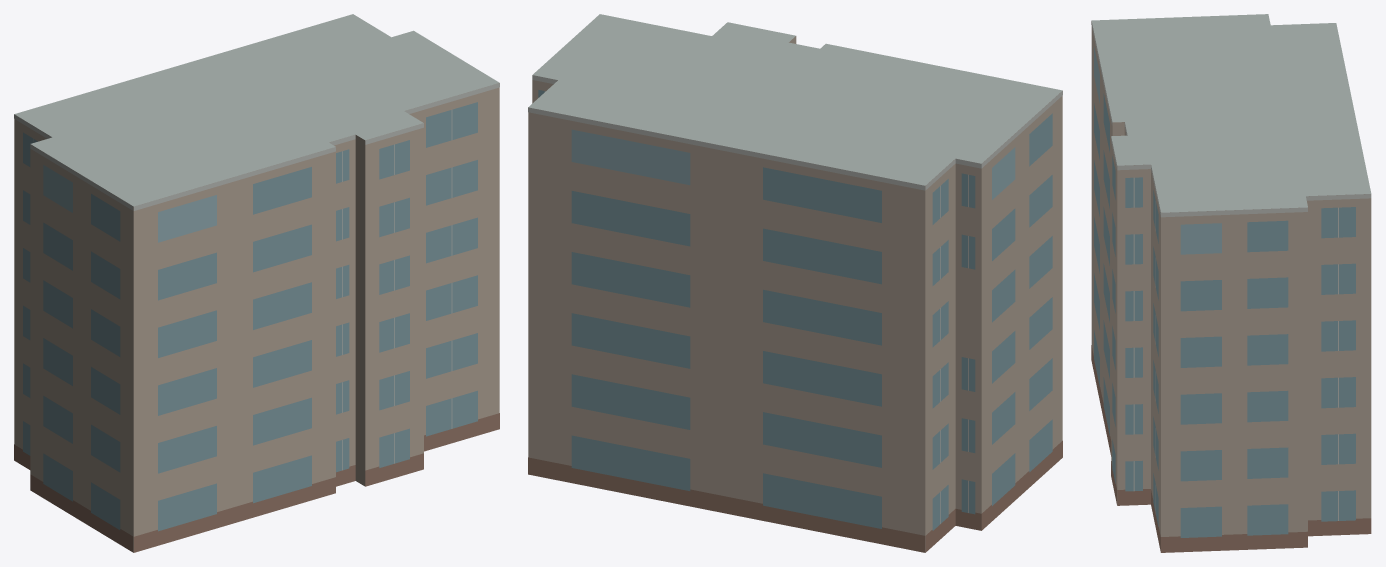
The model's file is survey-upis-32733342.glb.
3 views of the same model, side by side, from view 1: azimuth 30°, elevation 25°; view 2: azimuth 150°, elevation 25°; view 3: azimuth 270°, elevation 25° (orthographic). The views are drawn at different scales.
Parts seen in each view (by area): view 1: survey-upis-32733342.tmp; view 2: survey-upis-32733342.tmp; view 3: survey-upis-32733342.tmp.
Boxes of the visible parts, x1,y1,x2,y2 form: survey-upis-32733342.tmp: [14, 14, 499, 552]; survey-upis-32733342.tmp: [528, 14, 1062, 552]; survey-upis-32733342.tmp: [1091, 14, 1371, 552].
Size of the model in its own units: 22.95 by 18.3 by 13.66.
